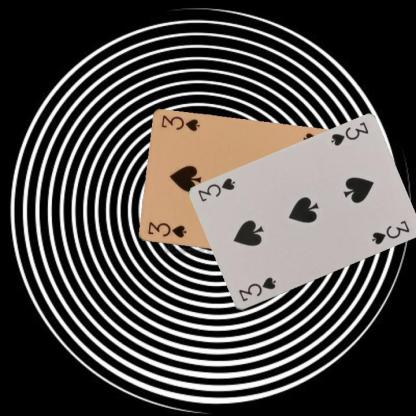3s: (236, 274, 277, 304), (328, 120, 370, 148), (145, 220, 187, 239)
